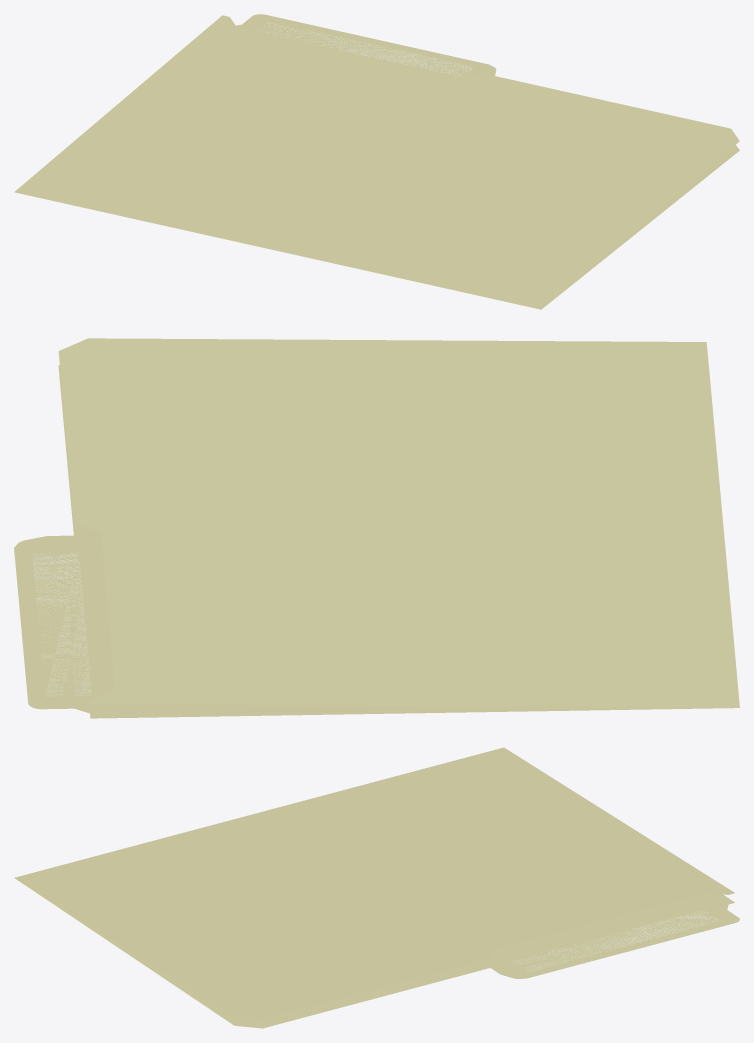
File: folder.dae
3 views of the same model, one above another, from view 1: azimuth 30°, elevation 25°; view 2: azimuth 150°, elevation 25°; view 3: azimuth 270°, elevation 25° (orthographic). The views are drawn at different scales.
Parts seen in each view (by area): view 1: folder; view 2: folder; view 3: folder.
Part boxes in pixels (x1,y1,x2,y2): folder: (14, 14, 739, 309); folder: (14, 338, 739, 718); folder: (14, 747, 739, 1028).
Size of the model in its own units: 2.87 by 3.13 by 0.0457.
